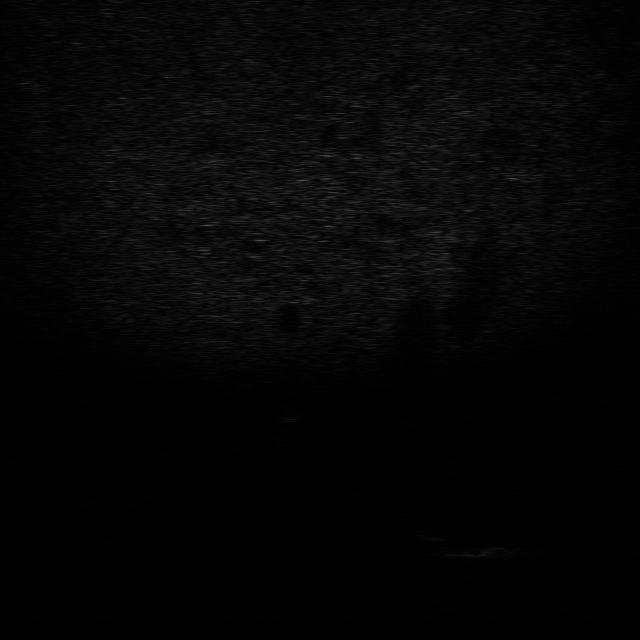ball: (266, 402, 305, 424)
metal bucket: (439, 538, 529, 565)
tyre: (382, 510, 448, 548)
